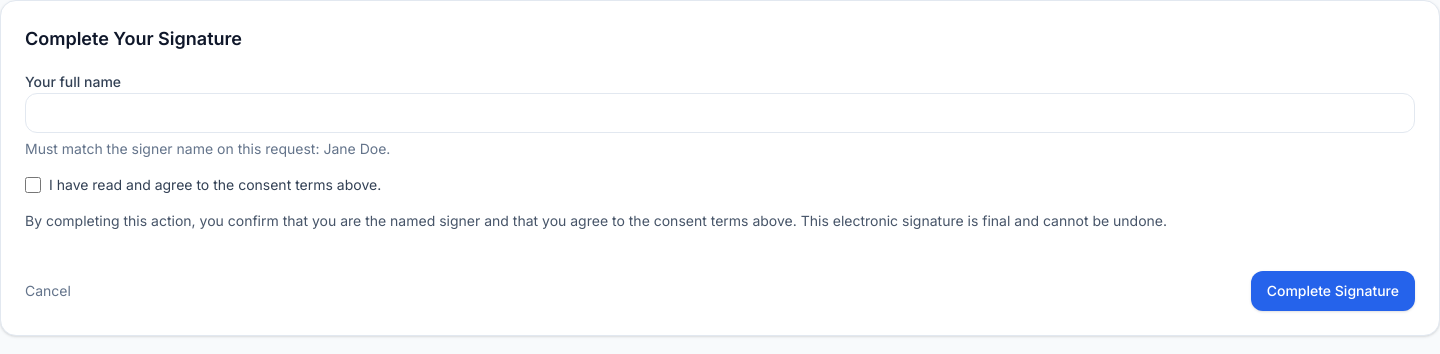
Test: SignatureExecutionForm — pending/duplicate submission › 12. the submit button is disabled while the request is pending
In the field labelled "Your full name": coordinates (720, 113) [25,93,1415,133], type "Jane Doe"
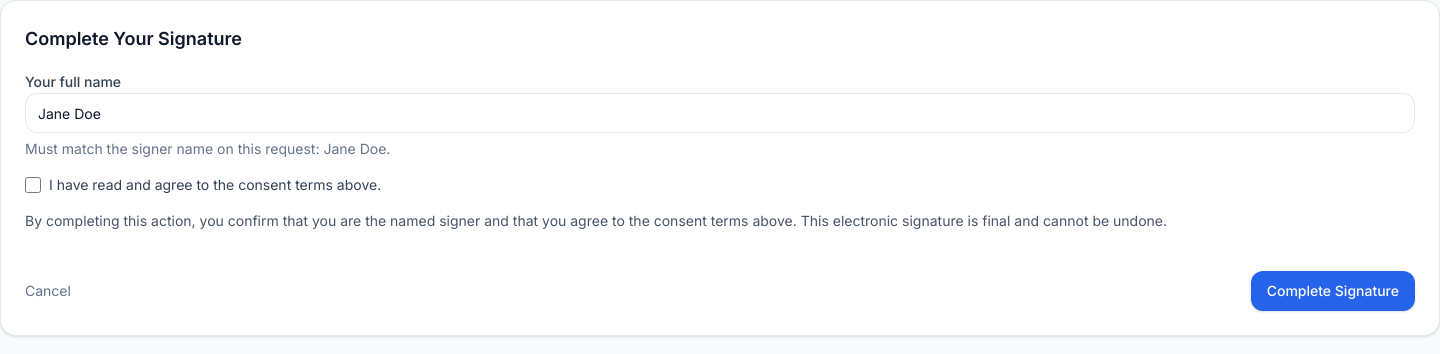
Click the checkbox labelled "I have read and agree to the consent terms above.": coordinates (33, 185) [25,177,41,193]
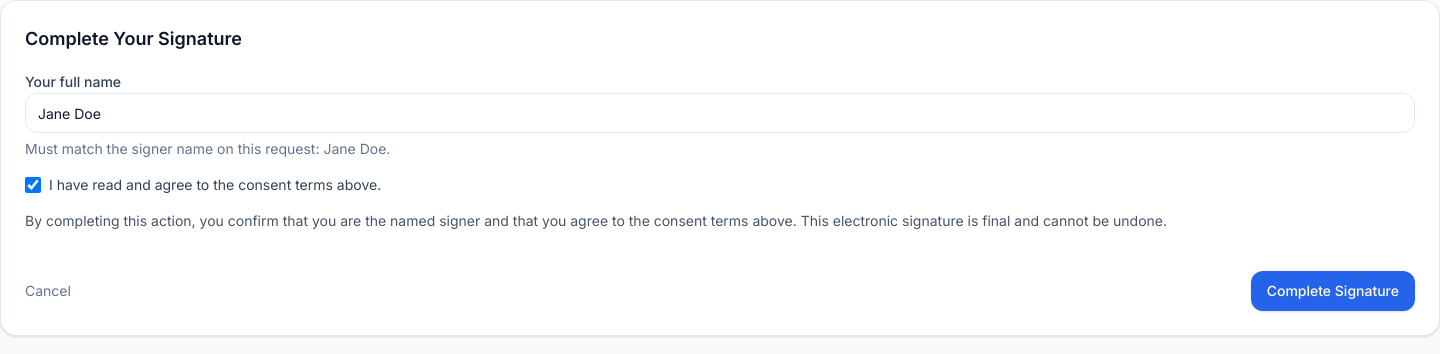
Click the button "Complete Signature": coordinates (1333, 291) [1251,271,1415,311]
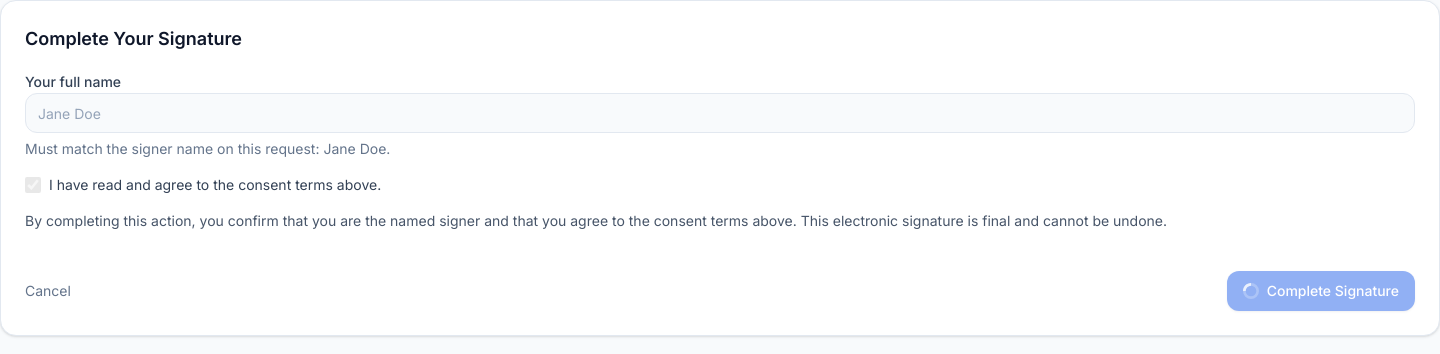
Expected: the button "Complete Signature" is disabled, [1227,271,1415,311]
